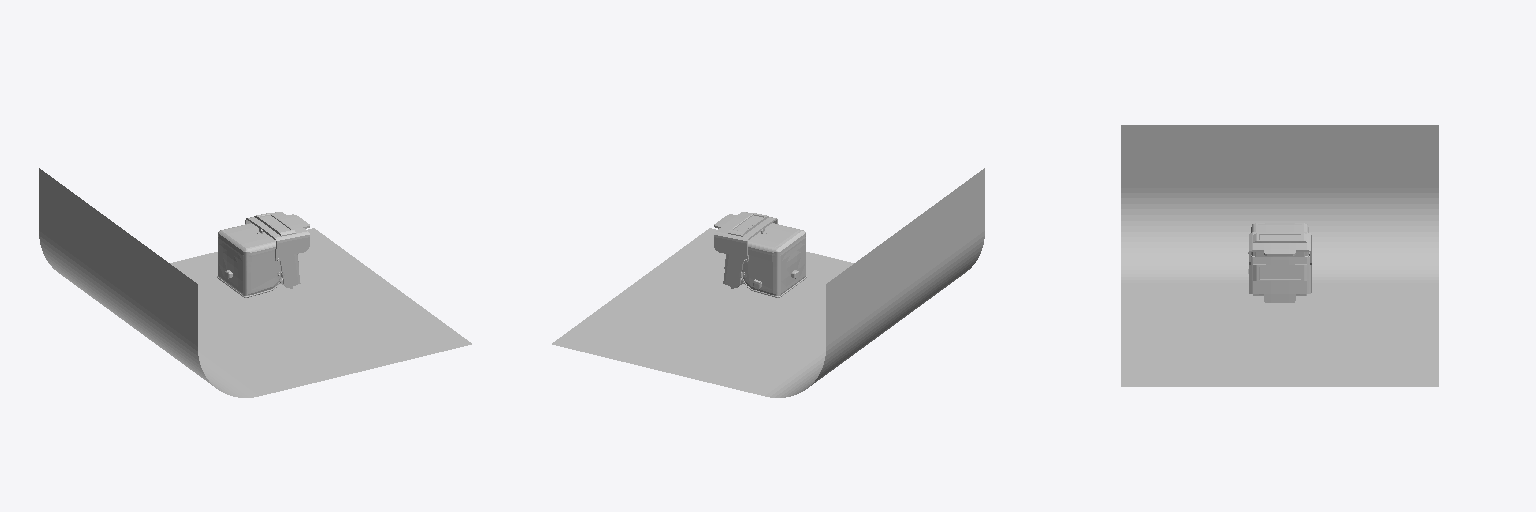
Rendered from 1helmet_altyn.obj.
3 renders of one model, left to right at view 1: azimuth 30°, elevation 25°; view 2: azimuth 150°, elevation 25°; view 3: azimuth 270°, elevation 25°, orthographic.
Visible parts, largest first — view 1: Плоскость, Kube.004_Kube.007, Zabralo_pod_Kube.003, Zabralo_op_Kube.005; view 2: Плоскость, Kube.004_Kube.007, Zabralo_pod_Kube.003, Zabralo_op_Kube.005; view 3: Плоскость, Zabralo_op_Kube.005, Zabralo_pod_Kube.003, Kube.004_Kube.007.
Part boxes in pixels (x1,y1,x2,y2): Плоскость: (39, 168, 471, 397); Kube.004_Kube.007: (217, 223, 292, 297); Zabralo_pod_Kube.003: (245, 212, 309, 262); Zabralo_op_Kube.005: (275, 254, 300, 287); Плоскость: (552, 168, 984, 397); Kube.004_Kube.007: (731, 223, 806, 297); Zabralo_pod_Kube.003: (714, 212, 777, 262); Zabralo_op_Kube.005: (723, 253, 748, 287); Плоскость: (1121, 125, 1438, 386); Zabralo_op_Kube.005: (1249, 257, 1311, 302); Zabralo_pod_Kube.003: (1249, 232, 1311, 264); Kube.004_Kube.007: (1248, 223, 1309, 295).
Size of the model in its own units: 12.02 by 5.32 by 12.02.